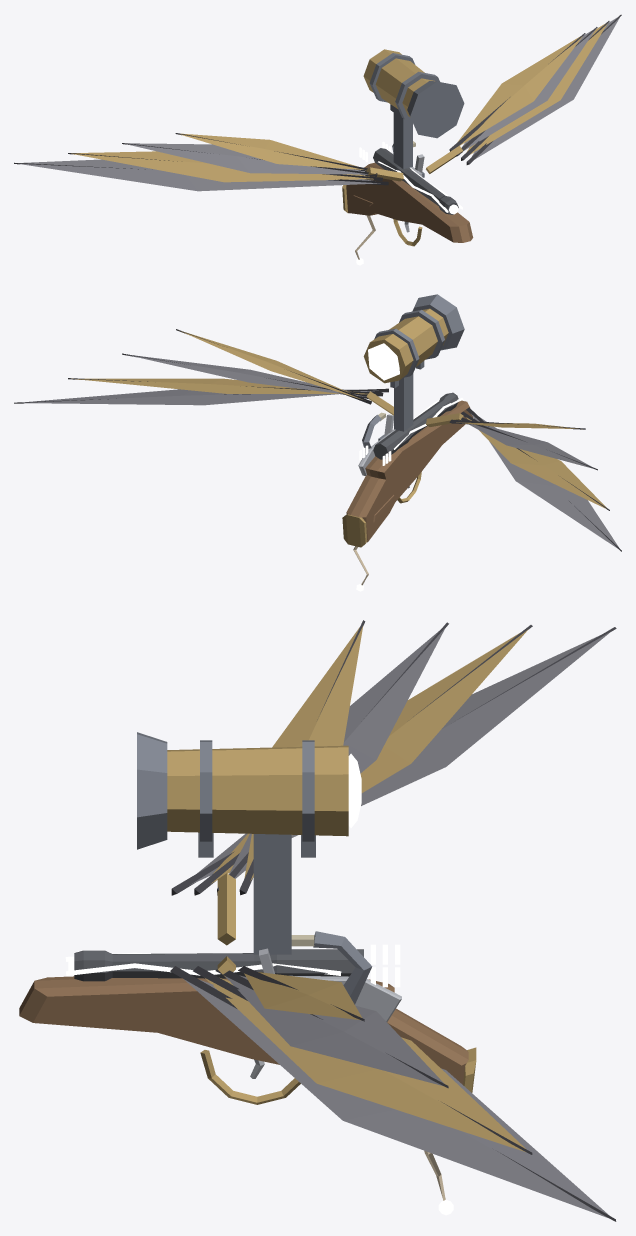
File: gun-high-window.glb
The picture shows the model from 3 angles, top to bottom: view 1: azimuth 30°, elevation 25°; view 2: azimuth 150°, elevation 25°; view 3: azimuth 270°, elevation 25°; orthographic projection. The views are drawn at different scales.
Visible parts, largest first — view 1: wing_r, gun-high-window, wing_l; view 2: gun-high-window, wing_l, wing_r; view 3: gun-high-window, wing_l, wing_r, pulse_vein.
Part boxes in pixels (x1,y1,x2,y2): wing_r: (14,133,403,191); gun-high-window: (342,49,473,246); wing_l: (426,14,621,173); gun-high-window: (342,294,473,547); wing_l: (14,329,393,415); wing_r: (426,407,621,551); gun-high-window: (19,732,476,1104); wing_l: (170,956,616,1221); wing_r: (171,620,616,945); pulse_vein: (65,952,341,975).
Bounding box in the file's own units: 1.84 × 0.6967 × 0.784.
